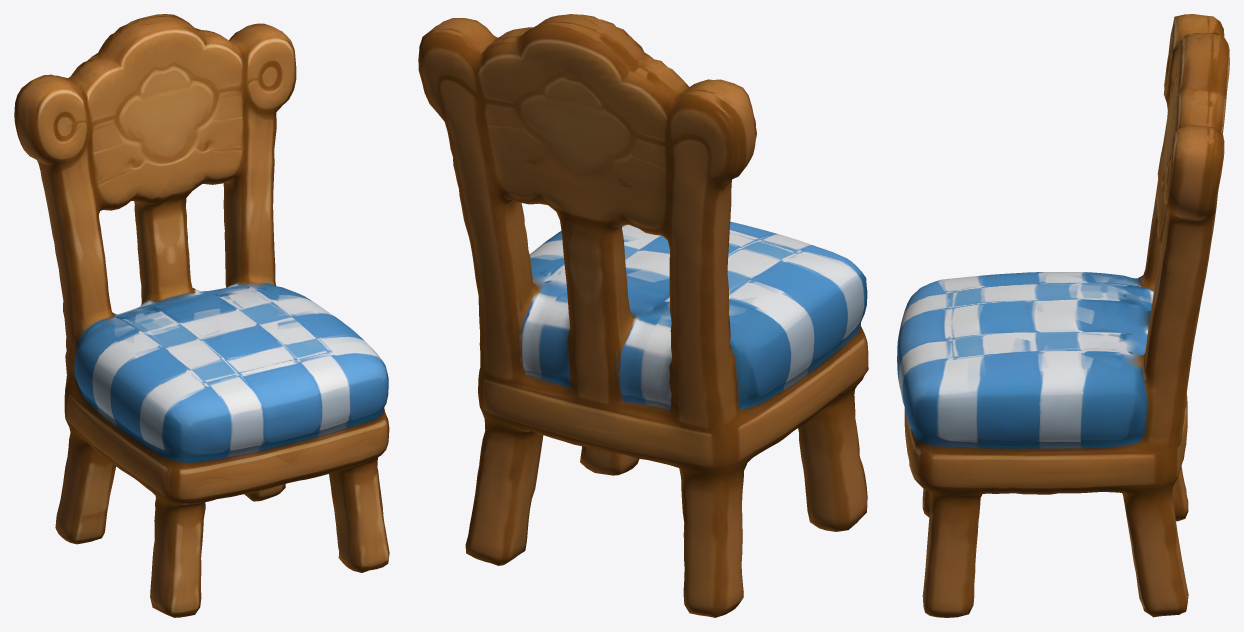
The model's file is Wood_Blue_chair.glb.
3 renders of one model, left to right at view 1: azimuth 30°, elevation 25°; view 2: azimuth 150°, elevation 25°; view 3: azimuth 270°, elevation 25°, orthographic. The views are drawn at different scales.
Parts seen in each view (by area): view 1: RETOPO; view 2: RETOPO; view 3: RETOPO.
Boxes of the visible parts, x1,y1,x2,y2 form: RETOPO: [14, 14, 389, 617]; RETOPO: [418, 14, 868, 617]; RETOPO: [897, 14, 1229, 617].
Size of the model in its own units: 0.5926 by 1.01 by 0.5824.
1 material, 1 textured.
